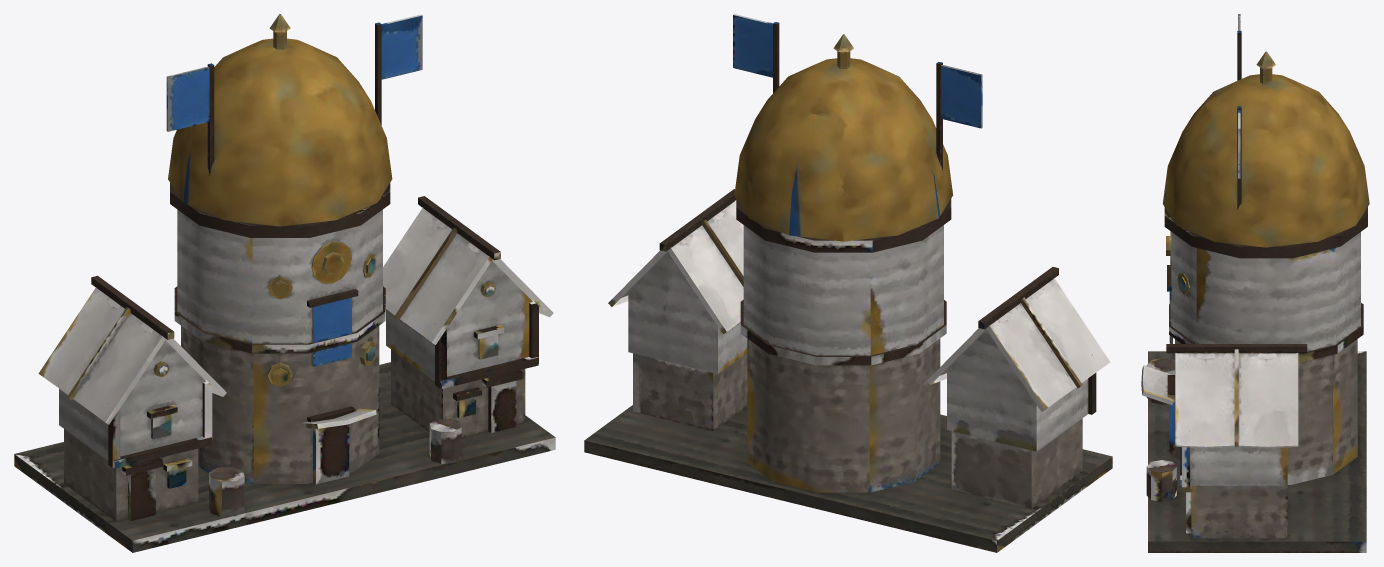
Rendered from pirate_stone_capital_crown.glb.
3 views of the same model, side by side, from view 1: azimuth 30°, elevation 25°; view 2: azimuth 150°, elevation 25°; view 3: azimuth 270°, elevation 25° (orthographic). The views are drawn at different scales.
Visible parts, largest first — view 1: FixedDetails, WoodBody, BrassTrim; view 2: FixedDetails, WoodBody, BrassTrim; view 3: FixedDetails, WoodBody, BrassTrim.
Boxes of the visible parts, <box> form: FixedDetails: <box>14,14,555,552</box>; WoodBody: <box>38,207,553,460</box>; BrassTrim: <box>153,14,495,386</box>; FixedDetails: <box>584,14,1112,552</box>; WoodBody: <box>608,200,1110,451</box>; BrassTrim: <box>734,34,952,241</box>; FixedDetails: <box>1146,14,1367,552</box>; WoodBody: <box>1141,232,1360,485</box>; BrassTrim: <box>1162,51,1369,294</box>.
Bounding box in the file's own units: 0.5446 × 0.502 × 0.256.
Materials: 3 (3 with a texture image).
